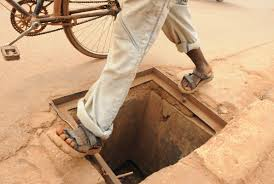Manhole-Open: (45, 59, 250, 181)
human: (55, 1, 228, 156)
